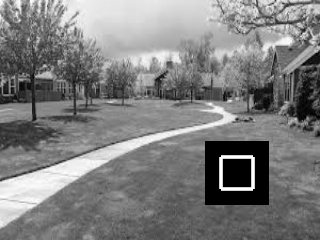square: (205, 141, 269, 205)
